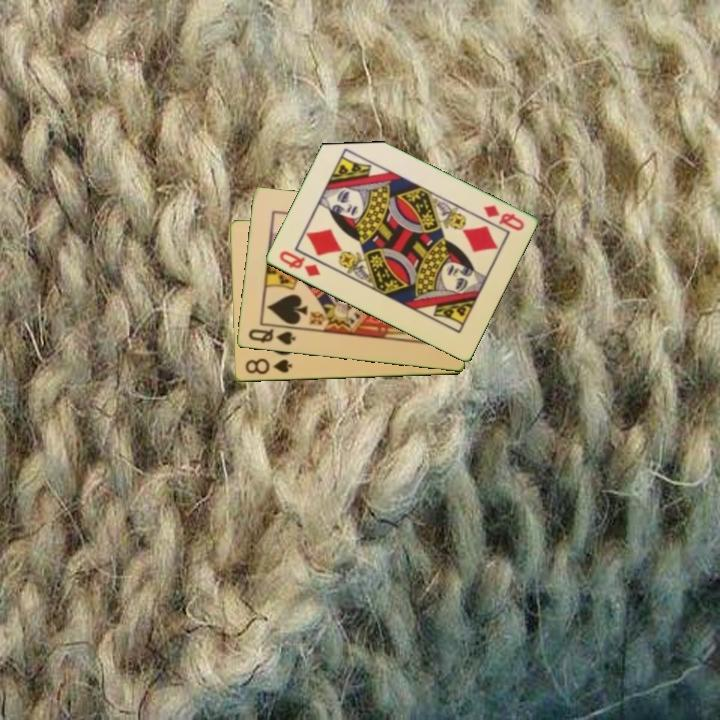8s: (242, 355, 295, 378)
Qd: (275, 247, 323, 280), (480, 201, 527, 234)
Qs: (245, 325, 298, 348)
